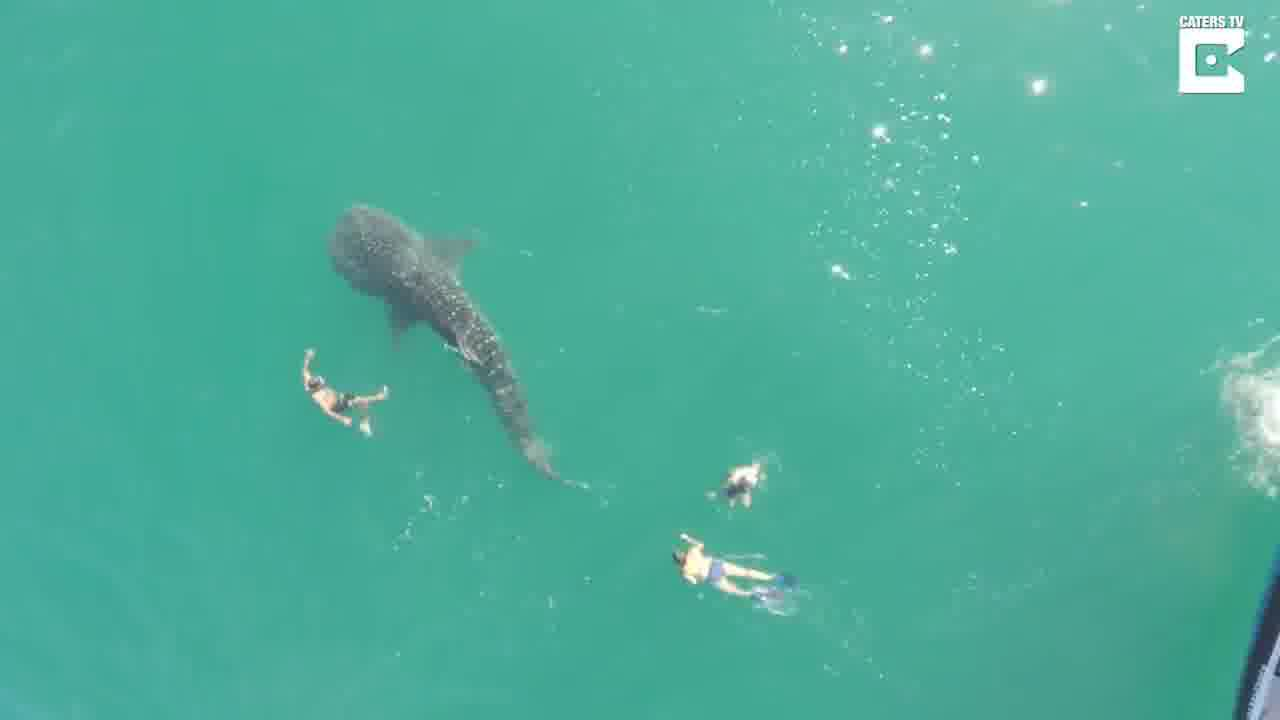swimmer: (666, 531, 801, 609), (280, 355, 411, 431), (709, 456, 774, 502)
